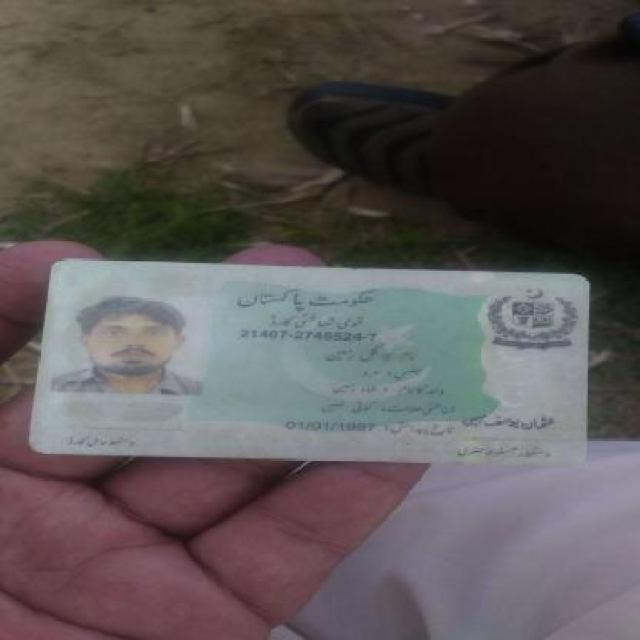Front: (23, 255, 600, 468)
